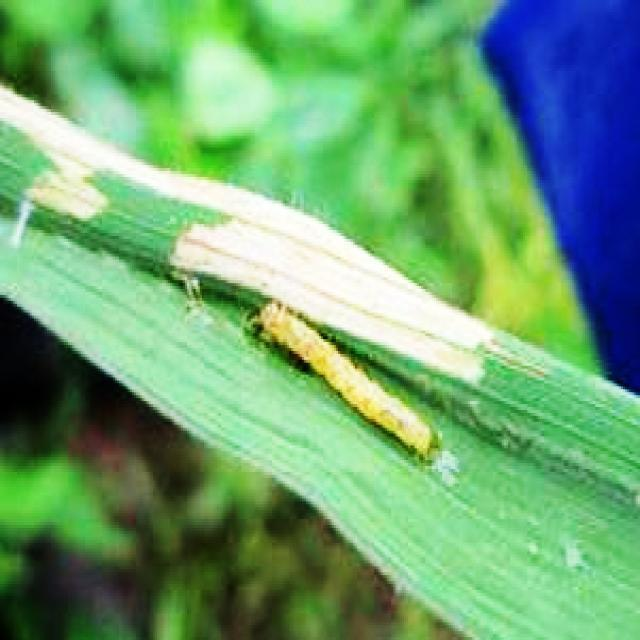leaf-folder: (241, 283, 452, 472)
